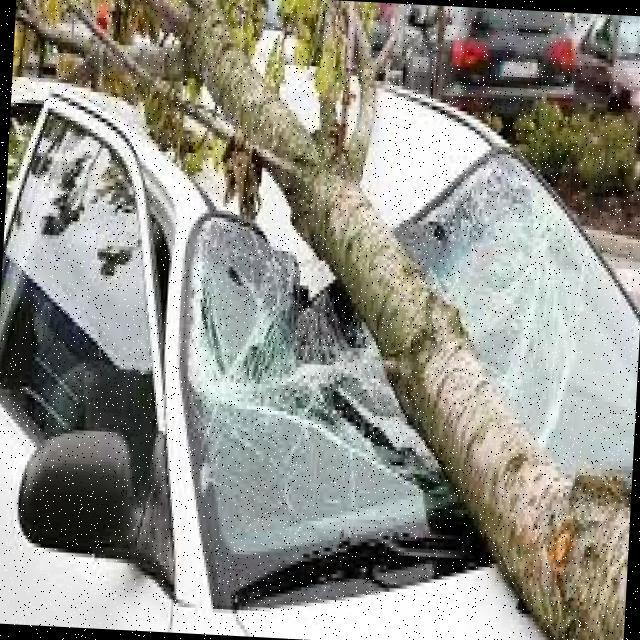fallen_object: (340, 309, 640, 640), (86, 0, 394, 234), (293, 166, 472, 340)
